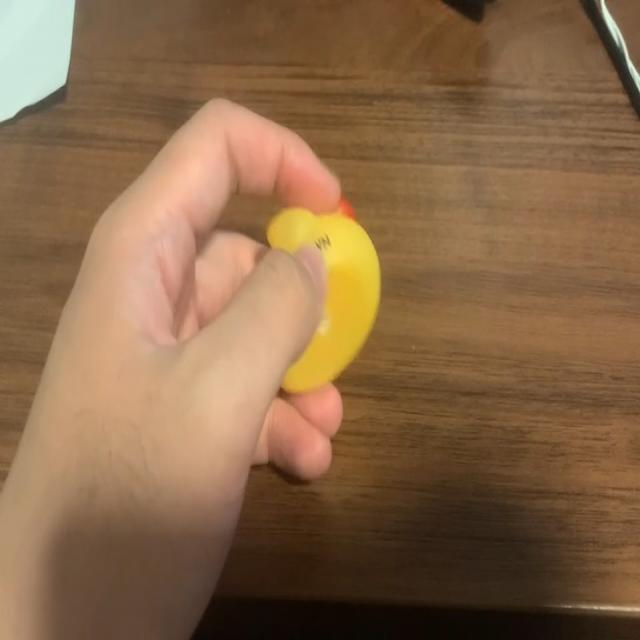rubber-duck: (266, 207, 379, 390)
